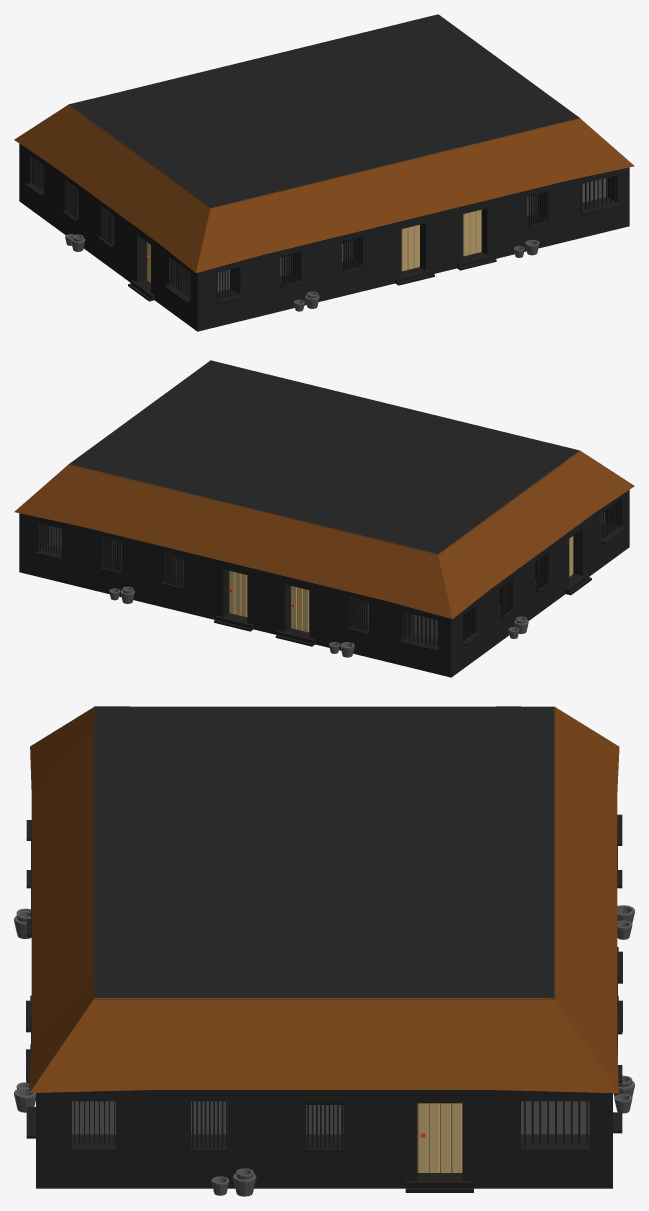
Rendered from CasaProcedural_6.fbx.
The picture shows the model from 3 angles, top to bottom: view 1: azimuth 30°, elevation 25°; view 2: azimuth 150°, elevation 25°; view 3: azimuth 270°, elevation 25°; orthographic projection. The views are drawn at different scales.
Parts seen in each view (by area): view 1: Procedural_Building; view 2: Procedural_Building; view 3: Procedural_Building.
Part boxes in pixels (x1,y1,x2,y2): Procedural_Building: (14, 14, 634, 331); Procedural_Building: (14, 360, 634, 677); Procedural_Building: (14, 706, 634, 1196).
Bounding box in the file's own units: 738 × 159 × 538.
